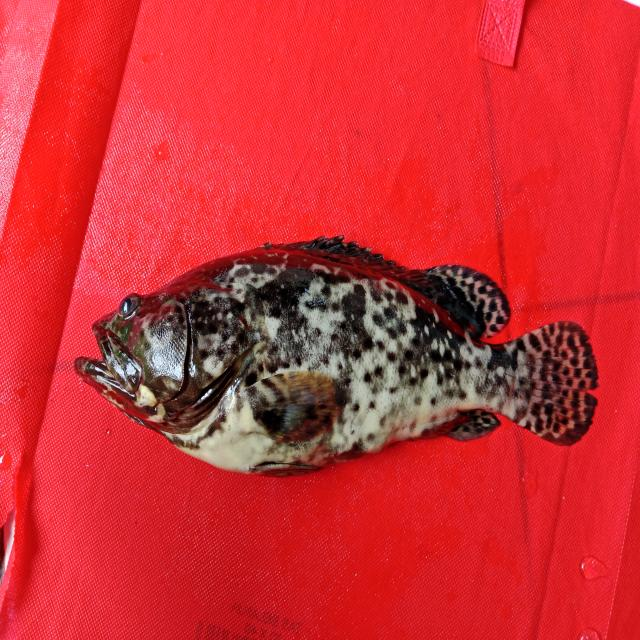ikan: (60, 195, 610, 496)
